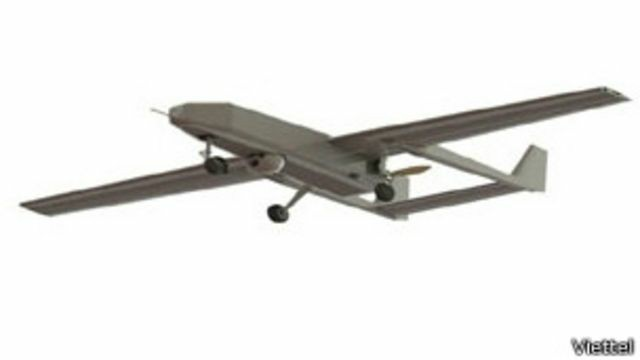maybay_khongnguoilai: (19, 95, 628, 234)
